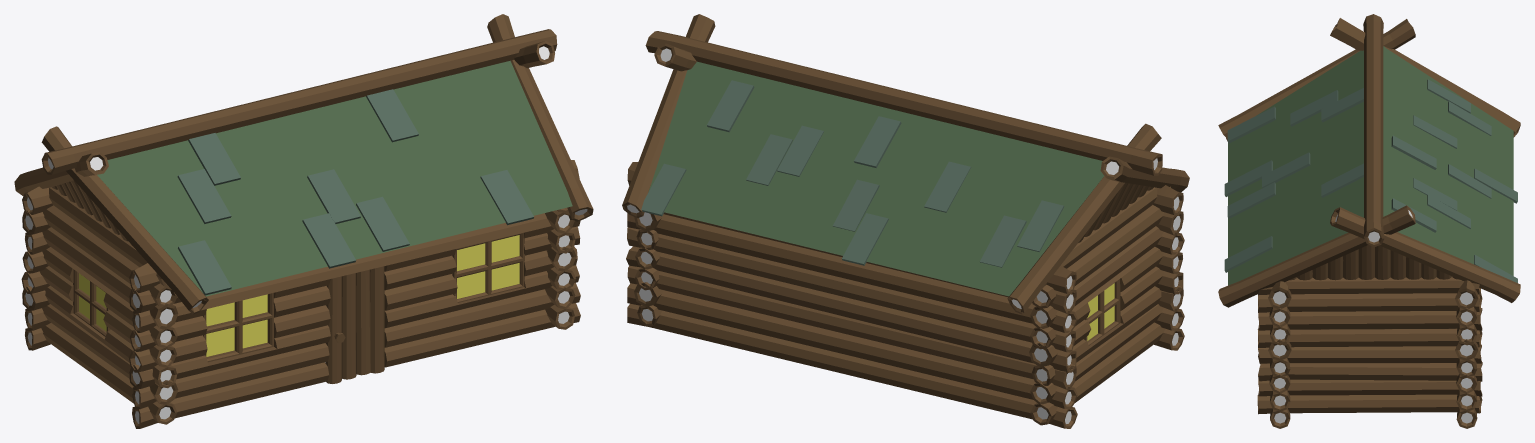
The model's file is SM_LogCabin_02.fbx.
3 renders of one model, left to right at view 1: azimuth 30°, elevation 25°; view 2: azimuth 150°, elevation 25°; view 3: azimuth 270°, elevation 25°, orthographic. The views are drawn at different scales.
Visible parts, largest first — view 1: SM_LogCabin_01, SM_LogCabin_01_Window; view 2: SM_LogCabin_01, SM_LogCabin_01_Window; view 3: SM_LogCabin_01.
Boxes of the visible parts, x1,y1,x2,y2 form: SM_LogCabin_01: (14, 14, 593, 428); SM_LogCabin_01_Window: (79, 235, 519, 356); SM_LogCabin_01: (622, 14, 1189, 428); SM_LogCabin_01_Window: (1087, 283, 1114, 340); SM_LogCabin_01: (1218, 14, 1520, 428).
Size of the model in its own units: 820 by 393 by 486.
